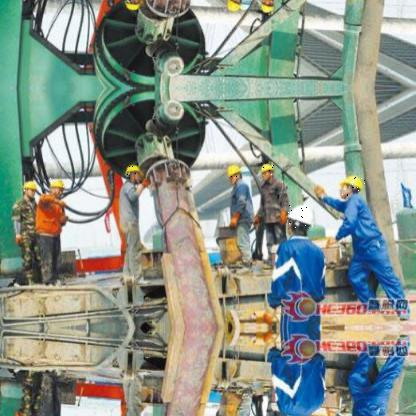safetyhelmet: (287, 206, 316, 230), (336, 176, 366, 198), (48, 176, 68, 188), (260, 162, 276, 176), (127, 164, 143, 178), (226, 164, 241, 178), (22, 180, 37, 192)
